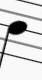note: (1, 2, 42, 74)
